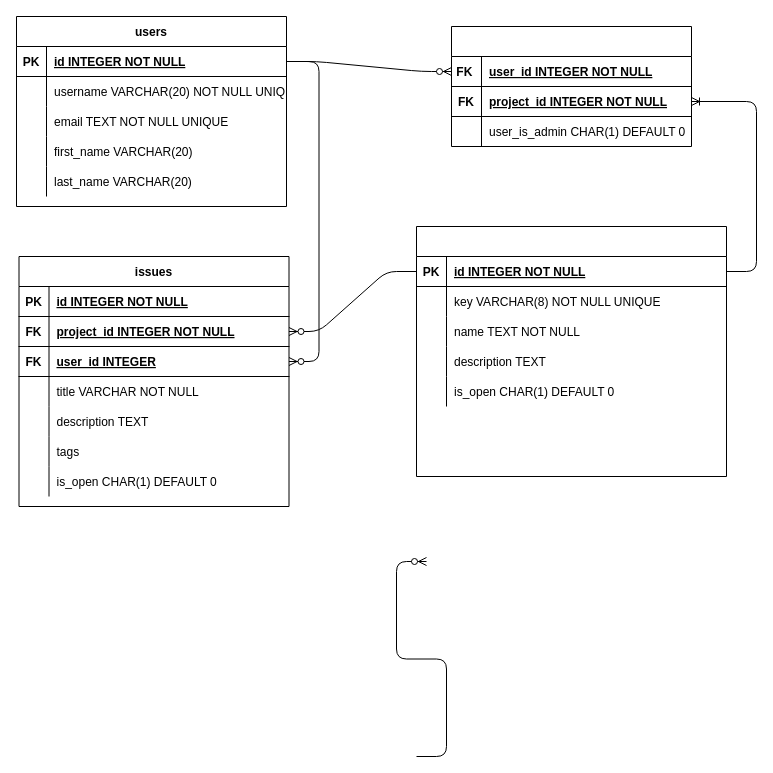
The diagram is 773 pixels wide and 773 high, and some of its shapes have lost their labels. Each missing label, with the box of its shape:
projects: (416, 226, 726, 476)
user_projects: (450, 26, 692, 146)
